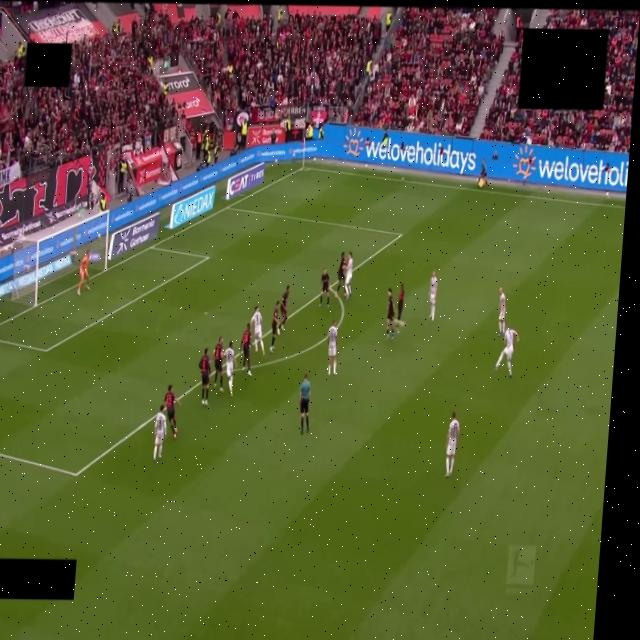ball: (393, 317, 406, 327)
player: (495, 329, 519, 377), (196, 348, 213, 406), (445, 412, 459, 477), (164, 385, 179, 438), (153, 404, 166, 461), (250, 306, 264, 354), (225, 341, 236, 396), (269, 300, 280, 352), (327, 320, 337, 374), (77, 251, 89, 296), (242, 323, 252, 376), (278, 286, 289, 334), (335, 253, 346, 298), (214, 337, 223, 392), (386, 288, 395, 339), (344, 252, 353, 298), (429, 271, 437, 321), (320, 269, 329, 307), (498, 288, 505, 336), (397, 284, 404, 324)
referee: (299, 374, 311, 434)
